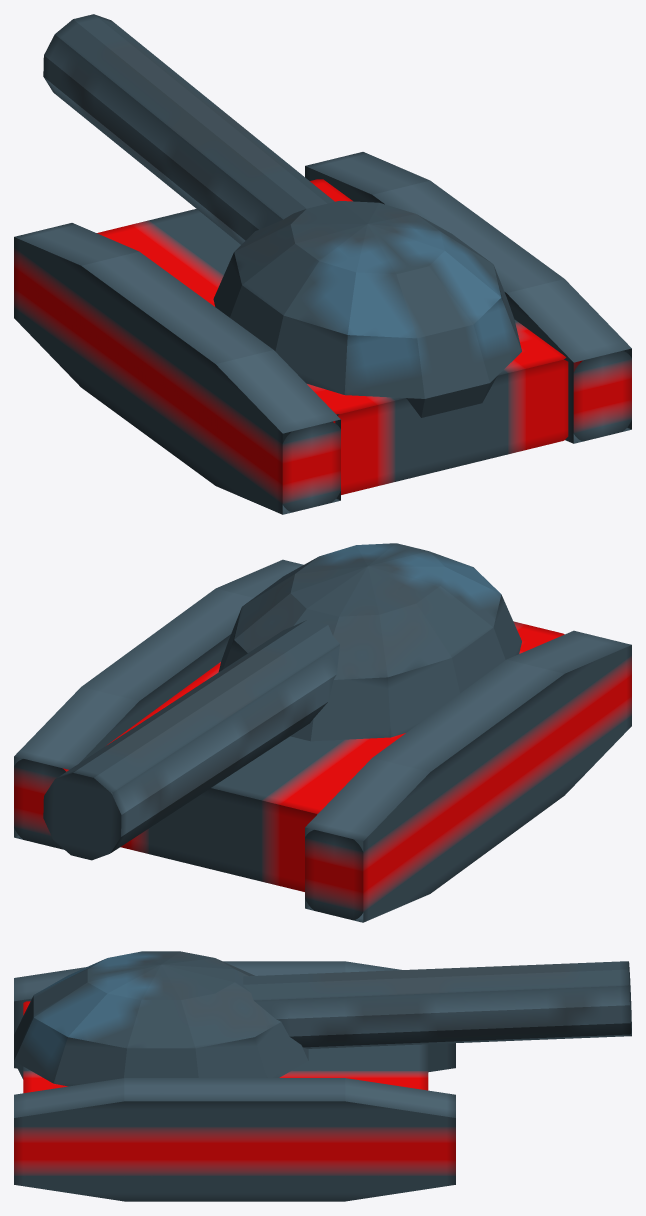
File: obelisk.obj
3 renders of one model, top to bottom at view 1: azimuth 30°, elevation 25°; view 2: azimuth 150°, elevation 25°; view 3: azimuth 270°, elevation 25°, orthographic. The views are drawn at different scales.
Visible parts, largest first — view 1: mesh, sphere, cylinder; view 2: mesh, sphere, cylinder; view 3: mesh, sphere, cylinder.
Part boxes in pixels (left/top/right/bottom): mesh: left=14, top=152, right=631, bottom=514; sphere: left=213, top=201, right=521, bottom=417; cylinder: left=43, top=14, right=334, bottom=244; mesh: left=14, top=559, right=631, bottom=922; sphere: left=218, top=543, right=521, bottom=741; cylinder: left=43, top=620, right=339, bottom=860; mesh: left=14, top=961, right=455, bottom=1201; sphere: left=14, top=951, right=308, bottom=1086; cylinder: left=243, top=961, right=631, bottom=1048.
Bounding box in the file's own units: 1.12 × 0.625 × 2.1.
1 material, 1 textured.
